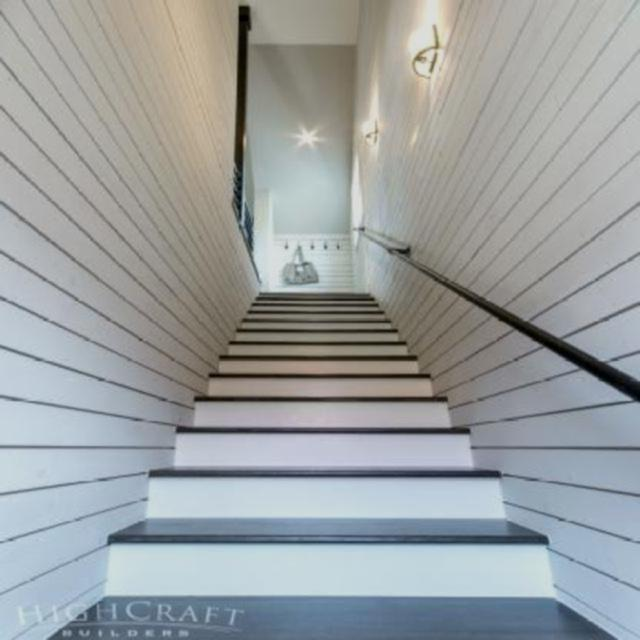stair: (95, 264, 598, 588)
